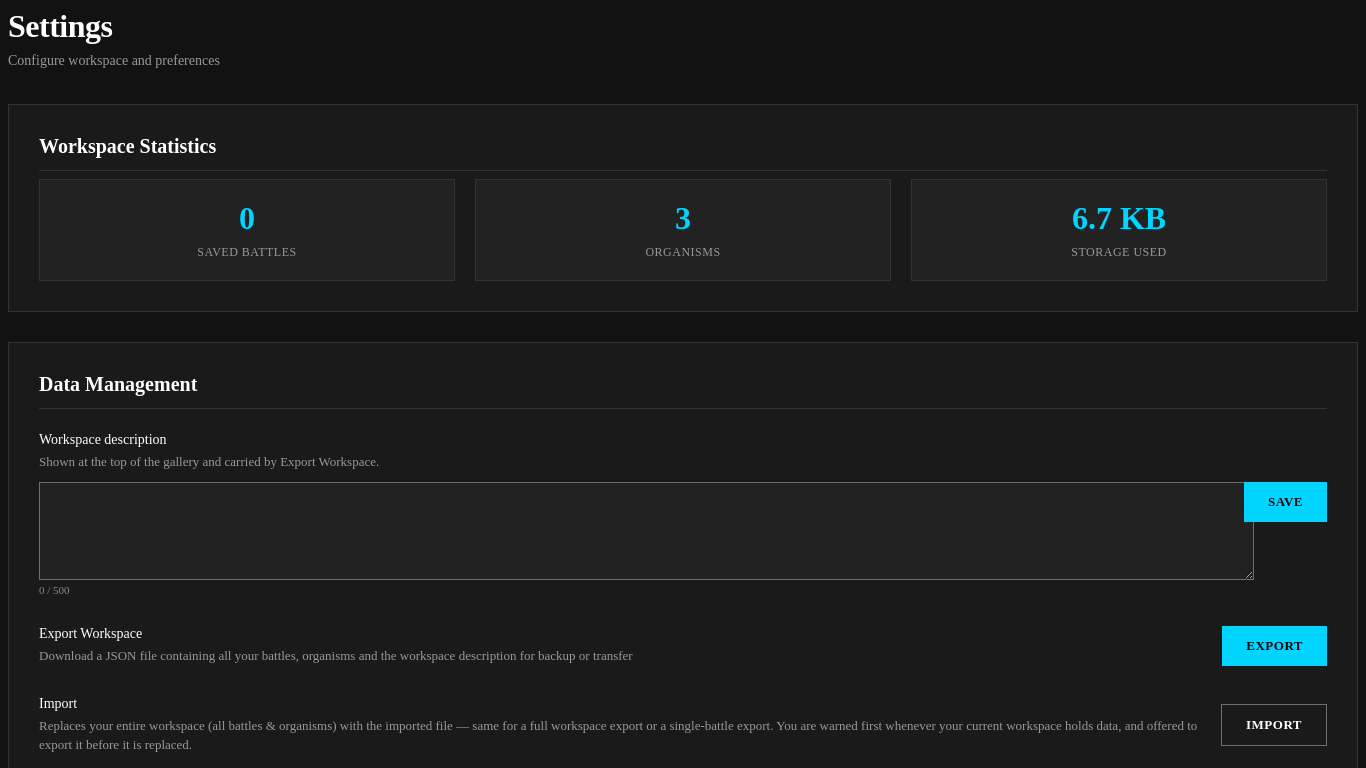
Test: SettingsPage › has no axe accessibility violations in the export error state, with the alert showing
Click the button with aria-label "export workspace" at (1275, 646), box [1222,626,1327,666]
(page scrolled)
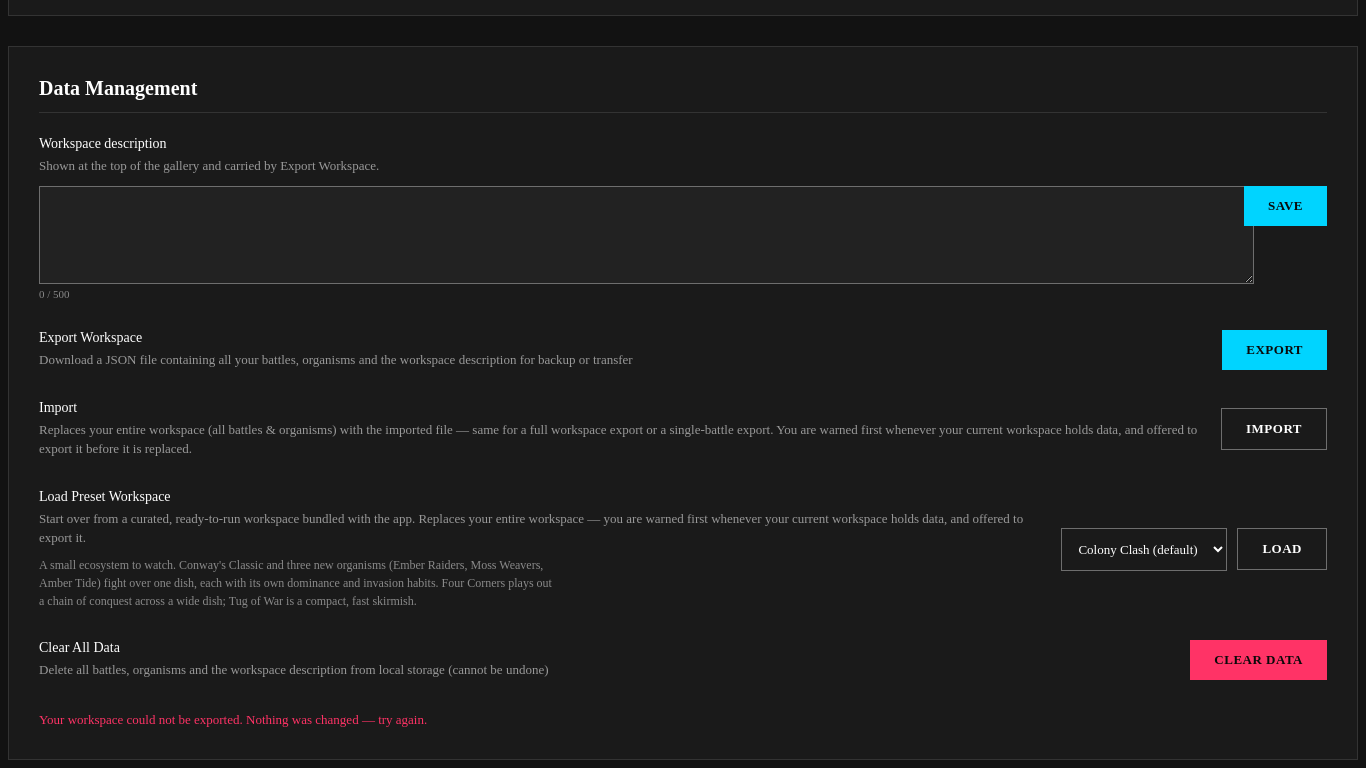
Now the message "Your workspace could not be exported. Nothing was changed — try again." is shown, box [39,712,427,726]
